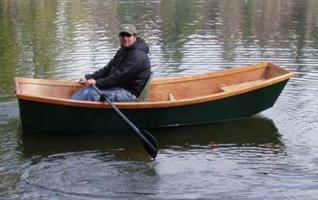person: (68, 23, 152, 104)
